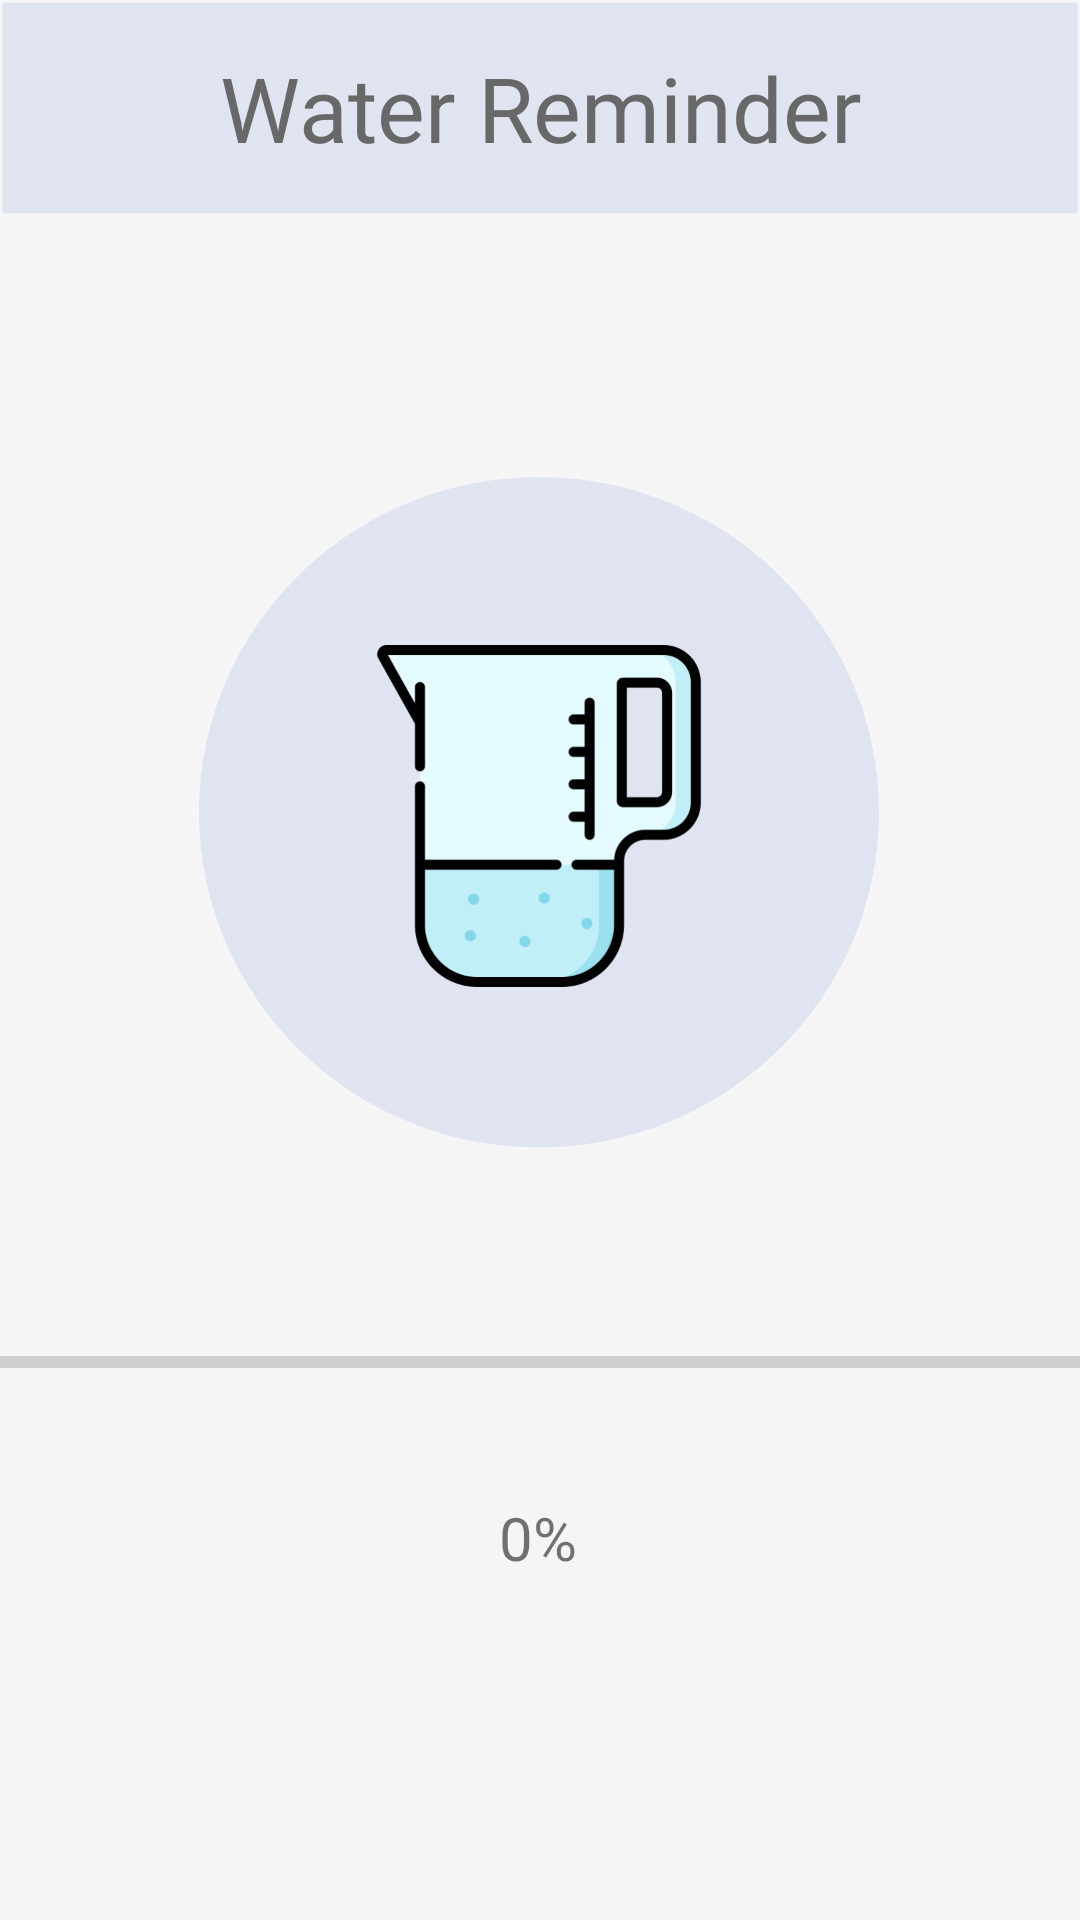

Named icons in this screenshot (1080px×1920px) and their bounding boxes, (x1, y1, x2, y2):
measuringcup: (377, 645, 701, 987)
